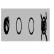correct: (3, 16, 10, 36)
not correct: (40, 11, 47, 44)
